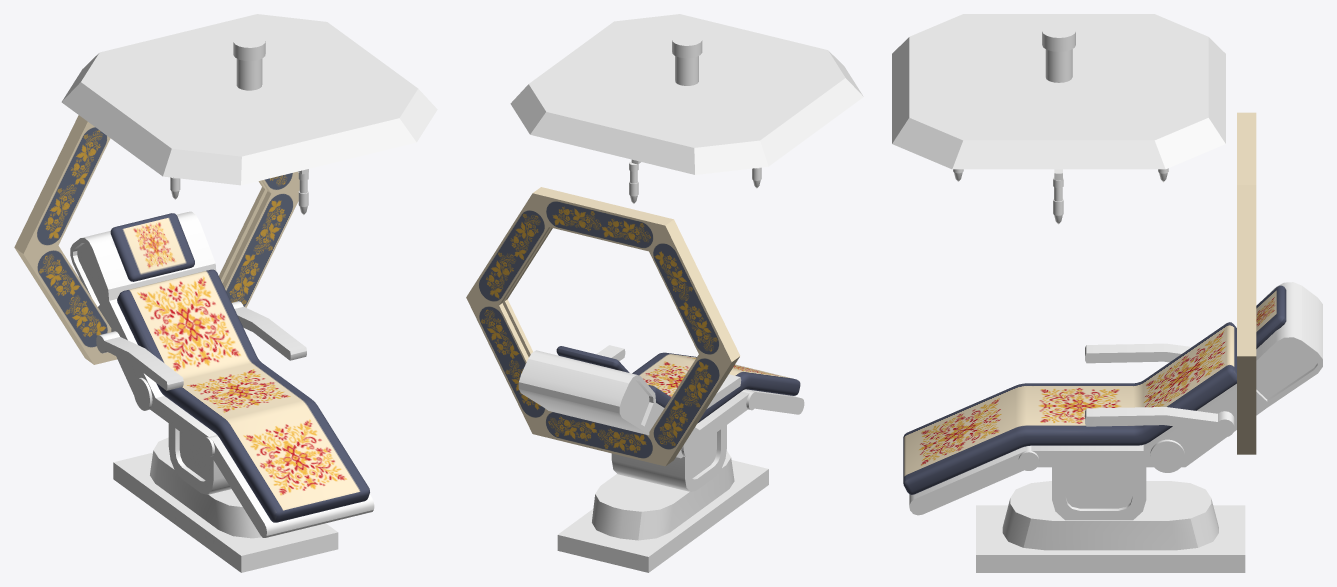
File: Med Scanner.fbx
3 renders of one model, left to right at view 1: azimuth 30°, elevation 25°; view 2: azimuth 150°, elevation 25°; view 3: azimuth 270°, elevation 25°, orthographic. The views are drawn at different scales.
Parts seen in each view (by area): view 1: Cube, Cylinder.004, Circle; view 2: Cylinder.004, Cube, Circle; view 3: Cube, Cylinder.004, Circle.
Boxes of the visible parts, x1,y1,x2,y2 form: Cube: (70, 211, 374, 572); Cylinder.004: (61, 14, 437, 215); Circle: (14, 115, 299, 364); Cylinder.004: (510, 14, 863, 203); Cube: (518, 345, 804, 572); Circle: (466, 187, 740, 466); Cube: (903, 282, 1322, 572); Cylinder.004: (892, 14, 1225, 224); Circle: (1237, 112, 1256, 454).
Bounding box in the file's own units: 2.11 × 3.51 × 2.65.
